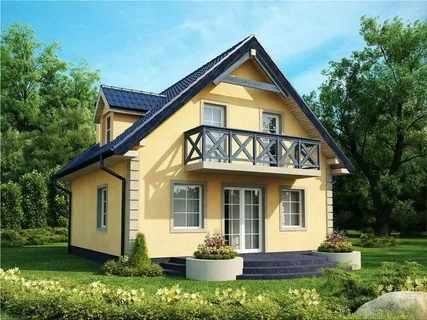private_hause: (78, 38, 348, 272)
